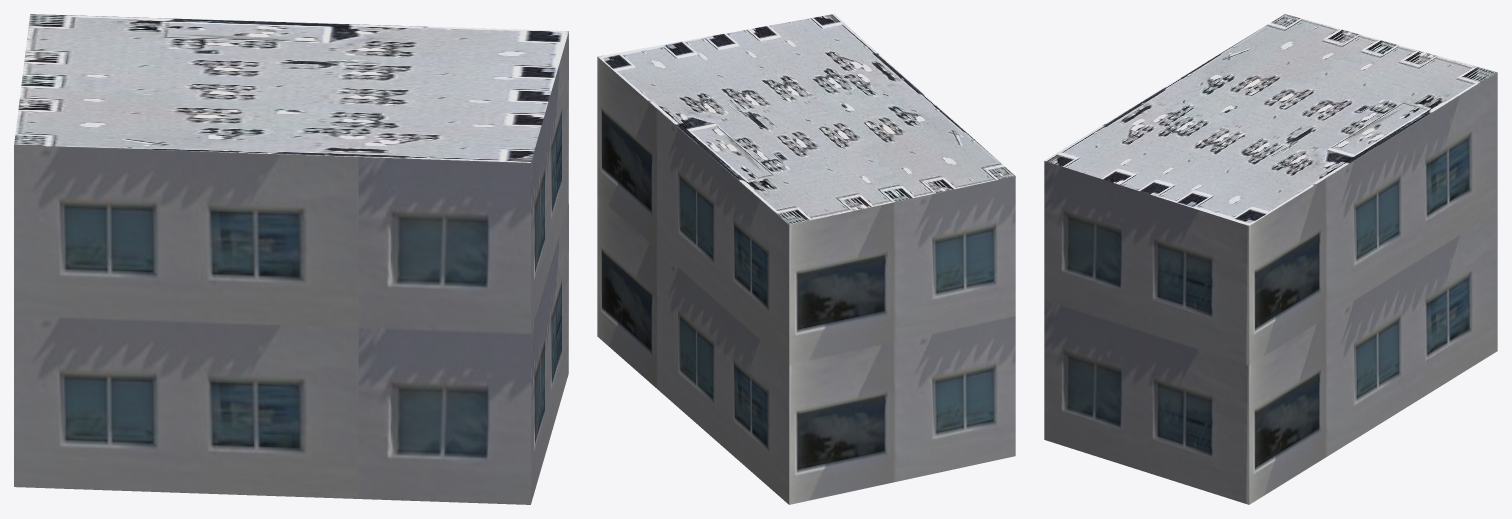
File: ResTex__3632.fbx
3 renders of one model, left to right at view 1: azimuth 30°, elevation 25°; view 2: azimuth 150°, elevation 25°; view 3: azimuth 270°, elevation 25°, orthographic. The views are drawn at different scales.
Parts seen in each view (by area): view 1: CityEngineMaterial_10_m, CityEngineMaterial_8_m; view 2: CityEngineMaterial_10_m, CityEngineMaterial_8_m; view 3: CityEngineMaterial_10_m, CityEngineMaterial_8_m.
Boxes of the visible parts, left/top/right/bottom form: CityEngineMaterial_10_m: left=14, top=31, right=568, bottom=504; CityEngineMaterial_8_m: left=14, top=14, right=568, bottom=162; CityEngineMaterial_10_m: left=597, top=57, right=1015, bottom=504; CityEngineMaterial_8_m: left=597, top=14, right=1014, bottom=224; CityEngineMaterial_10_m: left=1044, top=72, right=1497, bottom=504; CityEngineMaterial_8_m: left=1045, top=14, right=1496, bottom=225.
Size of the model in its own units: 9.78 by 6 by 8.83.
2 materials, 2 textured.
